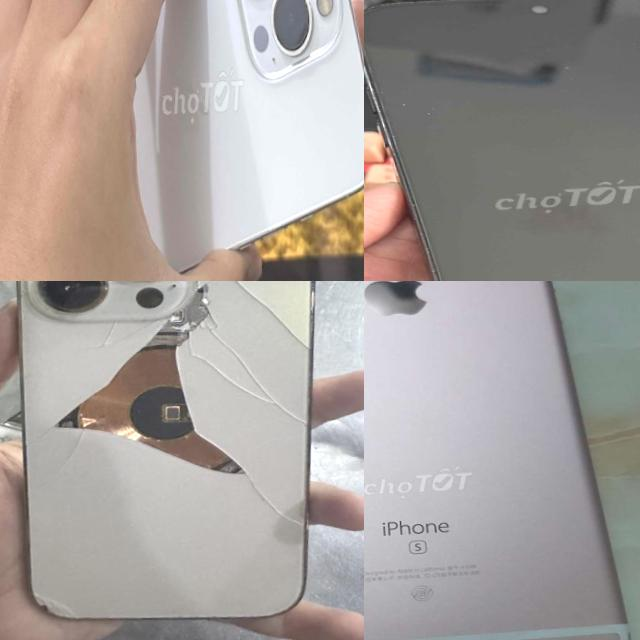gen_12_13: (100, 0, 364, 281)
gen_14: (0, 281, 337, 633), (364, 0, 640, 281)
gen_6: (364, 281, 640, 640)
